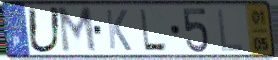5: (180, 6, 211, 54)
K: (104, 8, 134, 53)
L: (215, 7, 246, 54), (138, 8, 170, 53)
M: (56, 5, 99, 56)
U: (26, 5, 64, 55)
